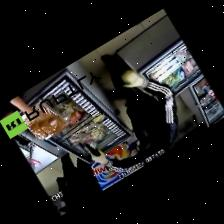person: (91, 54, 178, 171), (60, 153, 102, 209)
